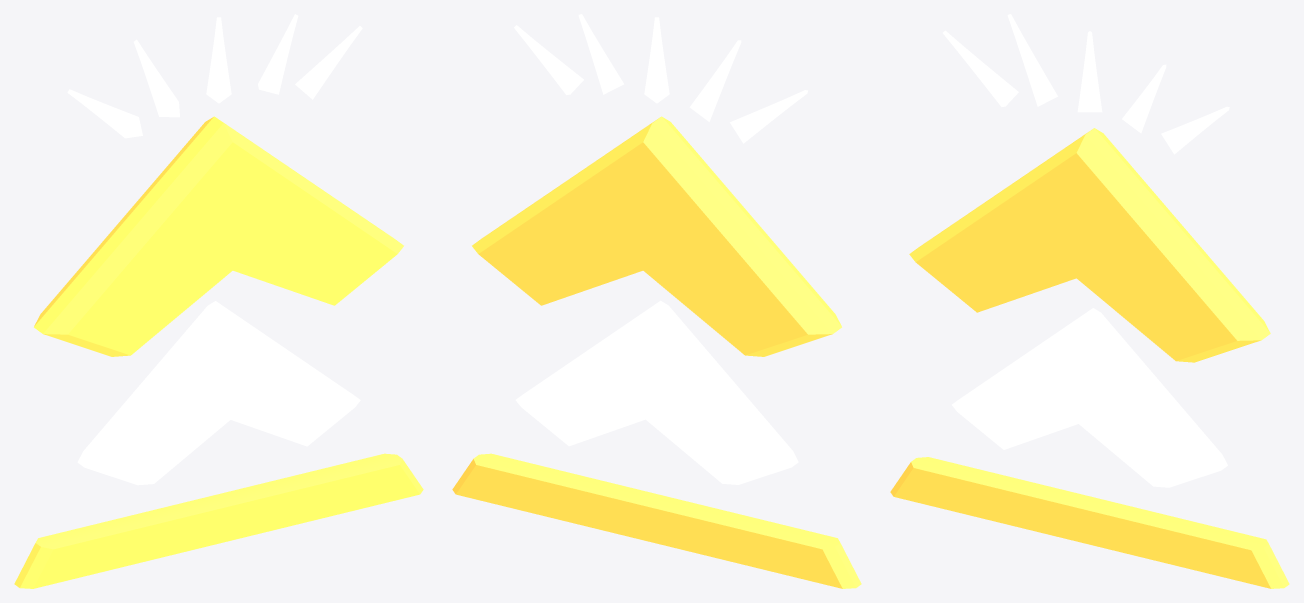
Rendered from vfx-mesh-library-damage-chevron-marker-27db16d7__21857.glb.
3 renders of one model, left to right at view 1: azimuth 30°, elevation 25°; view 2: azimuth 150°, elevation 25°; view 3: azimuth 330°, elevation 25°, orthographic. The views are drawn at different scales.
Visible parts, largest first — view 1: damage-chevron-marker; view 2: damage-chevron-marker; view 3: damage-chevron-marker.
Boxes of the visible parts, x1,y1,x2,y2 form: damage-chevron-marker: [14, 14, 423, 588]; damage-chevron-marker: [452, 14, 861, 588]; damage-chevron-marker: [890, 14, 1289, 588].
Bounding box in the file's own units: 0.76 × 0.9329 × 0.09.
